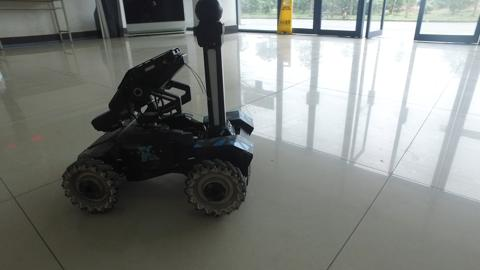chariot: (60, 1, 255, 218)
